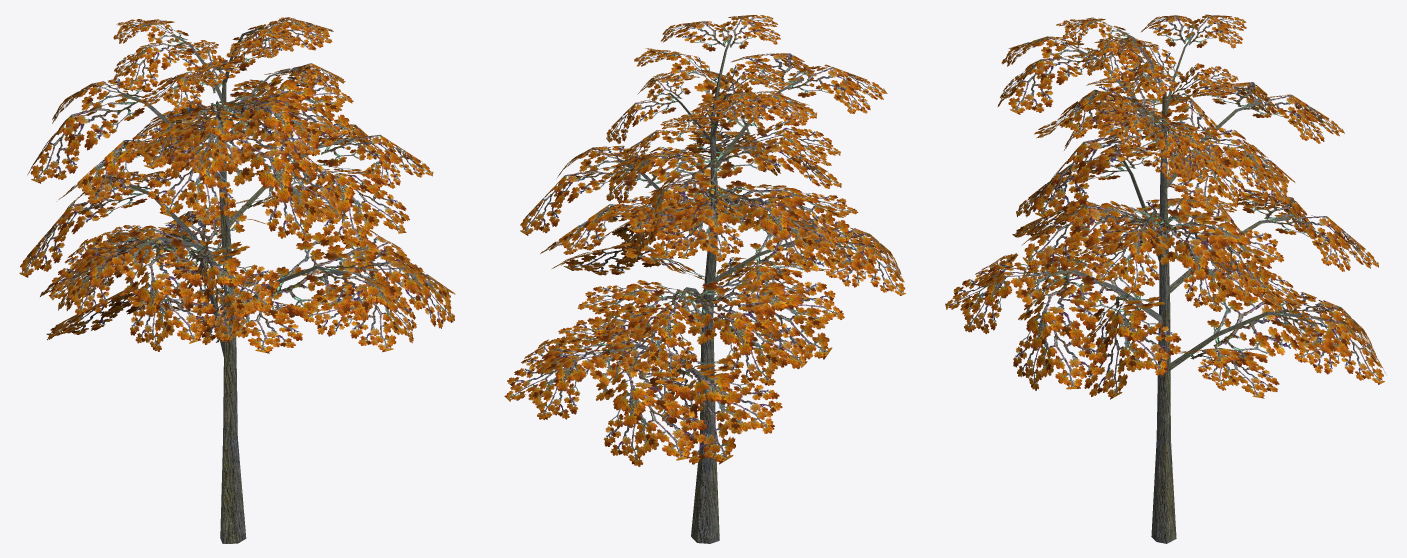
Rendered from flora_tree_maple_autumn_v4.glb.
The picture shows the model from 3 angles, left to right: view 1: azimuth 30°, elevation 25°; view 2: azimuth 150°, elevation 25°; view 3: azimuth 270°, elevation 25°; orthographic projection. The views are drawn at different scales.
Visible parts, largest first — view 1: flora_tree_maple_autumn_v4_part0; view 2: flora_tree_maple_autumn_v4_part0; view 3: flora_tree_maple_autumn_v4_part0.
Part boxes in pixels (<box>): flora_tree_maple_autumn_v4_part0: <box>19,17,455,543</box>; flora_tree_maple_autumn_v4_part0: <box>504,15,906,543</box>; flora_tree_maple_autumn_v4_part0: <box>945,14,1385,543</box>.
Bounding box in the file's own units: 14.9 × 20.24 × 16.01.
1 material, 1 textured.
